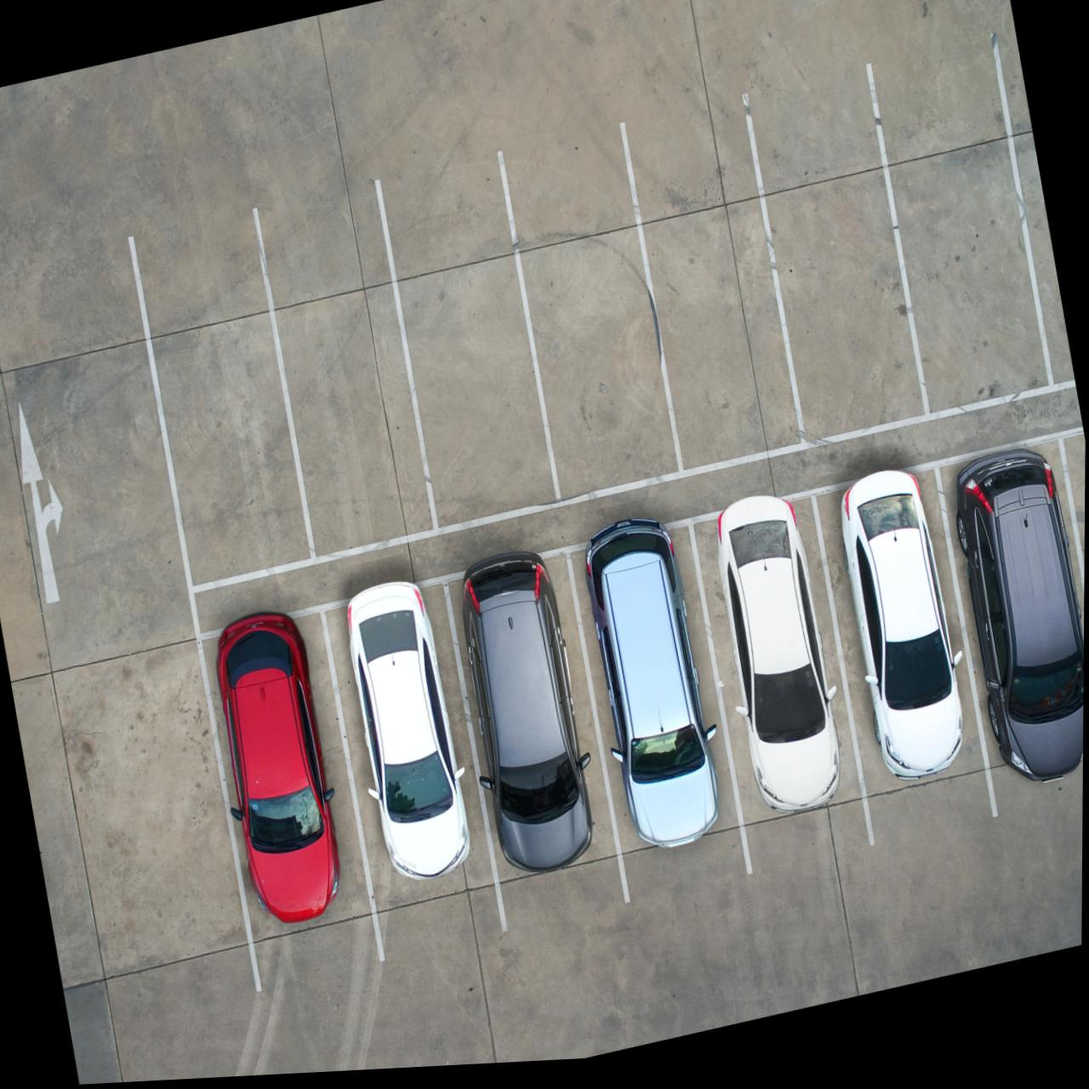cars: (442, 539, 631, 901), (683, 494, 872, 844), (566, 516, 745, 881), (806, 467, 983, 832), (318, 575, 498, 924), (194, 607, 379, 945), (929, 433, 1085, 793)
empty: (251, 177, 442, 562), (866, 45, 1053, 422), (379, 159, 567, 531), (624, 106, 810, 475), (507, 126, 688, 496), (749, 78, 931, 444), (131, 220, 309, 587)
